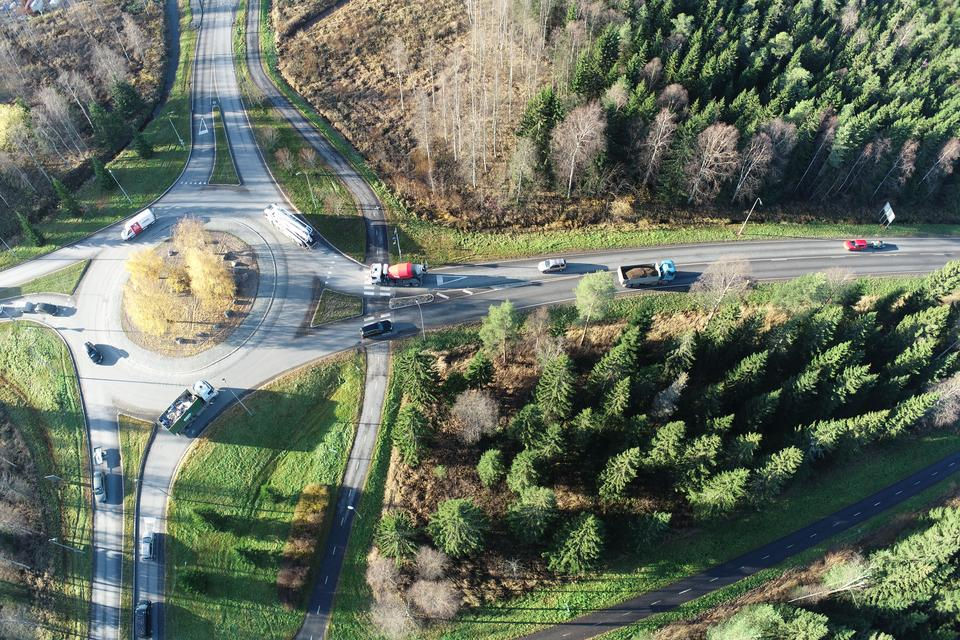intersection: (356, 229, 432, 390)
roundabout: (0, 121, 349, 424)
